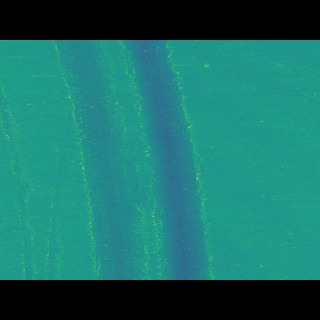Loch: (52, 70, 215, 249), (0, 109, 43, 250)
